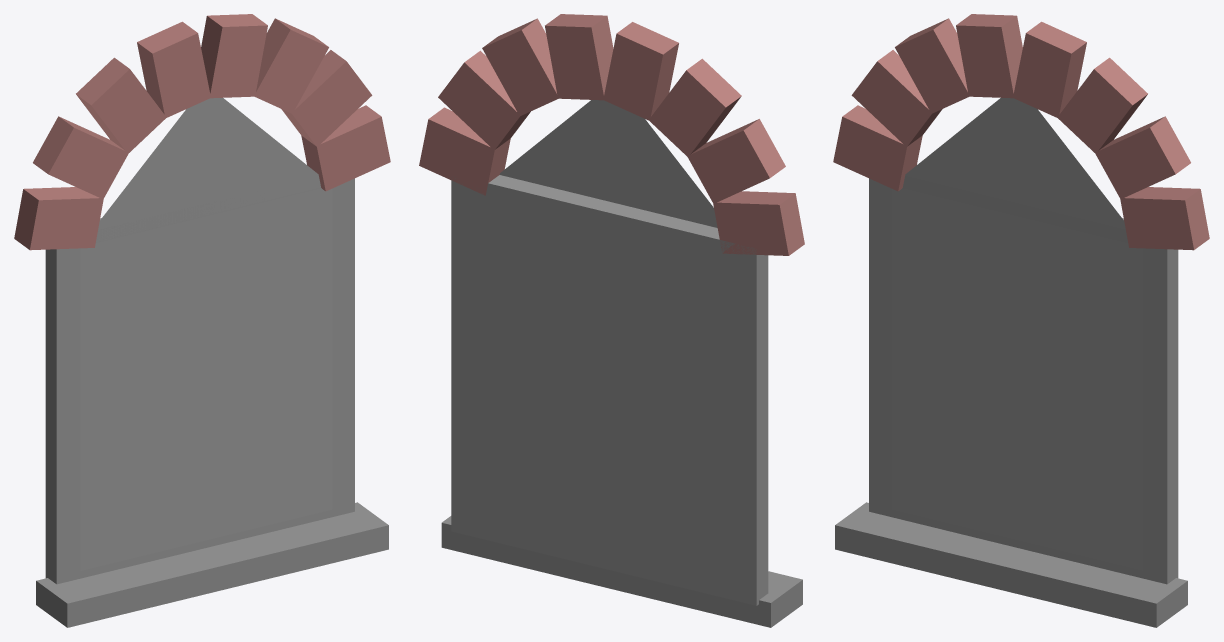
Rendered from window_round.glb.
3 views of the same model, side by side, from view 1: azimuth 30°, elevation 25°; view 2: azimuth 150°, elevation 25°; view 3: azimuth 330°, elevation 25° (orthographic). The views are drawn at different scales.
Visible parts, largest first — view 1: window_round; view 2: window_round; view 3: window_round.
Part boxes in pixels (box(x1,y1,x2,y2)): window_round: box(14, 14, 390, 627); window_round: box(419, 14, 804, 627); window_round: box(833, 14, 1209, 627).
Bounding box in the file's own units: 1.86 × 2.69 × 0.3.
